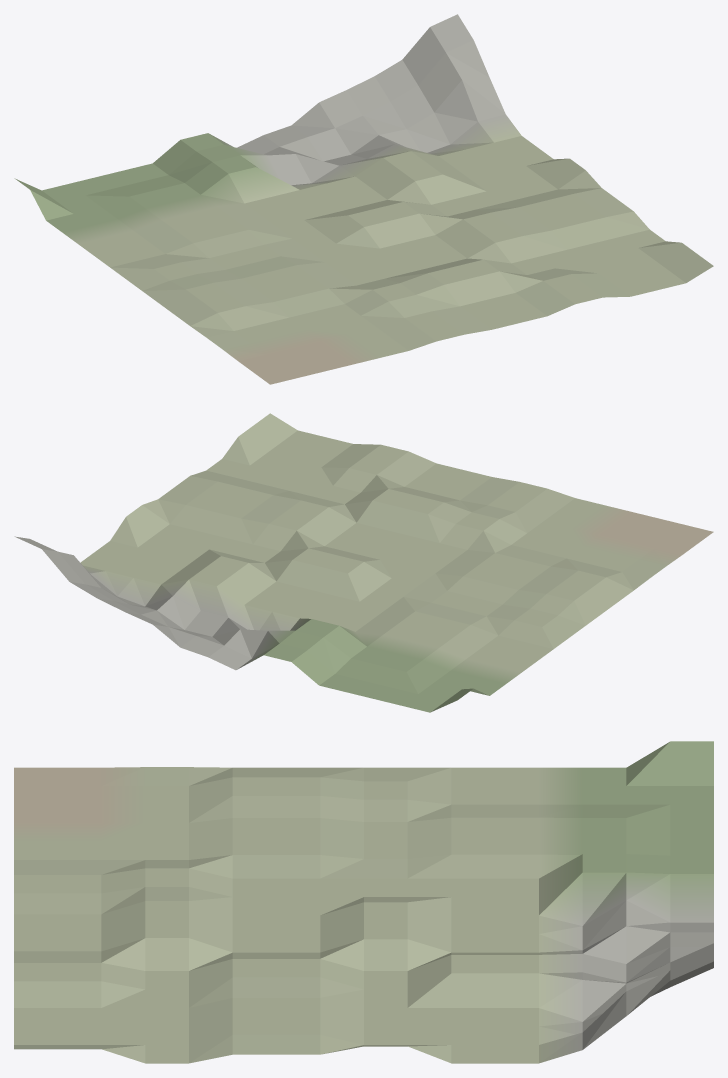
3 views of the same model, one above another, from view 1: azimuth 30°, elevation 25°; view 2: azimuth 150°, elevation 25°; view 3: azimuth 270°, elevation 25° (orthographic). The views are drawn at different scales.
Size of the model in its own units: 32 by 5.97 by 32.
